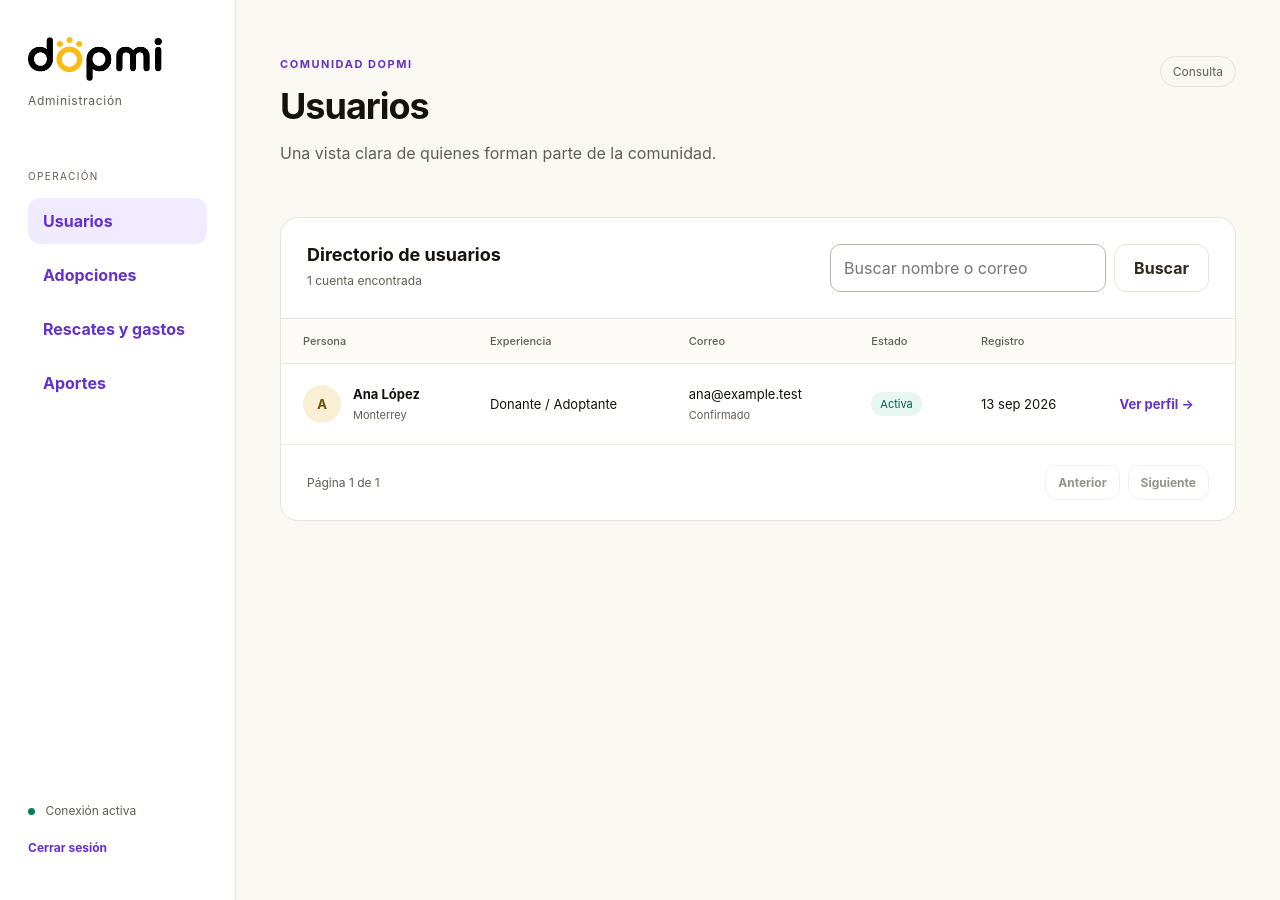
it: administración de usuarios › clears user data when the next request is denied
Expected: the text "Ana López" is shown, [353,386,420,402]
Click the button "Buscar" at coordinates (1162, 268), box [1114,244,1209,292]
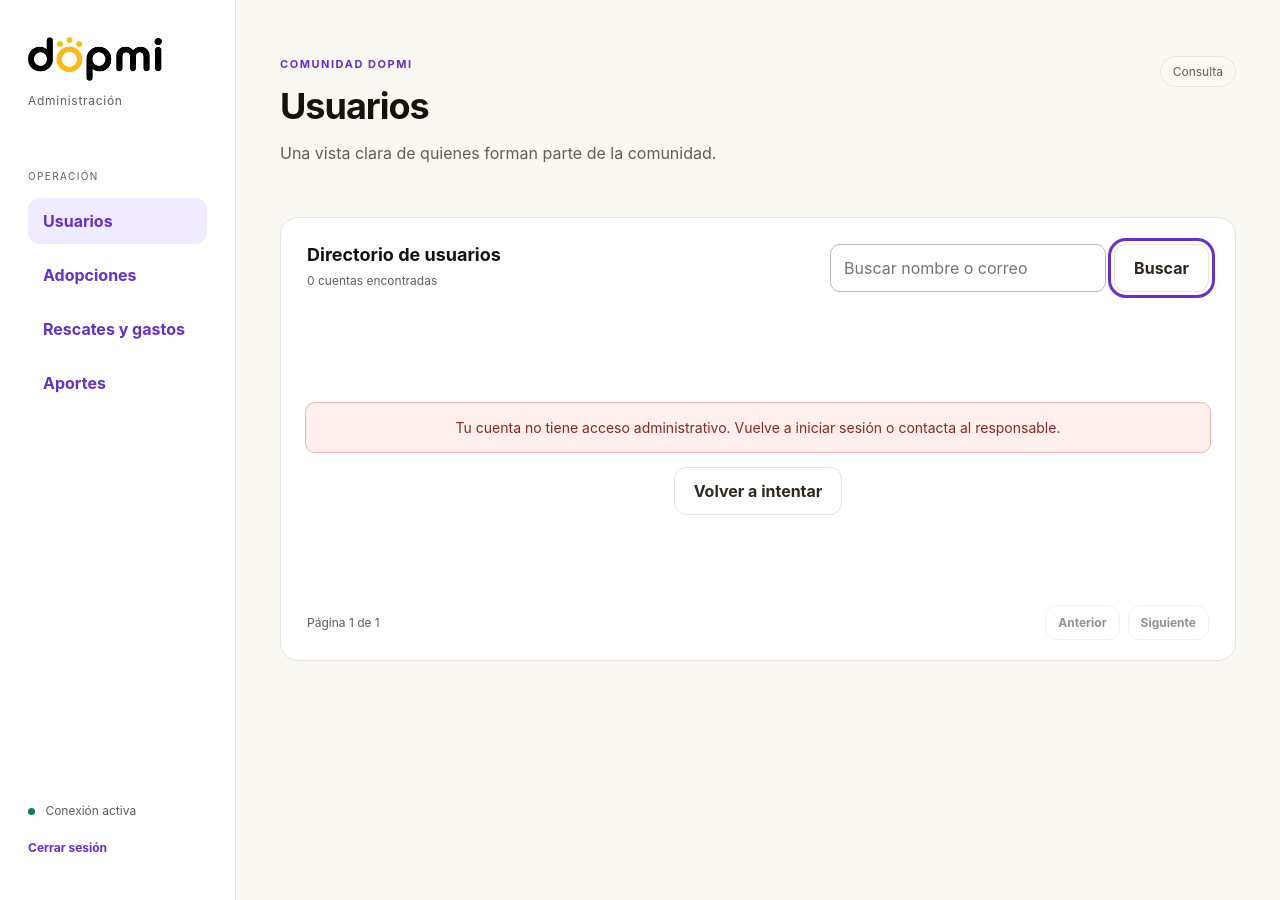
Expected: the message is shown, [305,402,1211,453]
Expected: the text "ana@example.test" is gone
